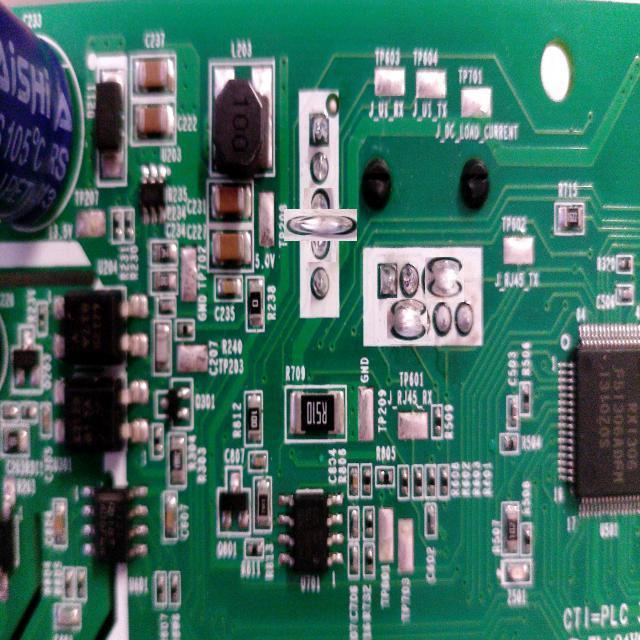Short_circuit: (294, 198, 346, 252), (386, 299, 429, 343), (423, 258, 466, 302)
